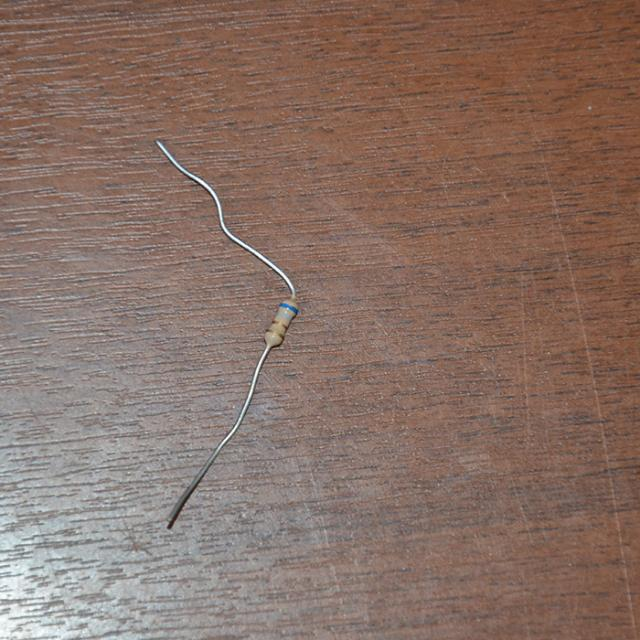blue: (281, 302, 296, 312)
gold: (272, 320, 288, 328), (268, 328, 283, 336)
grey: (277, 311, 293, 319)
resistor: (254, 291, 310, 354)
